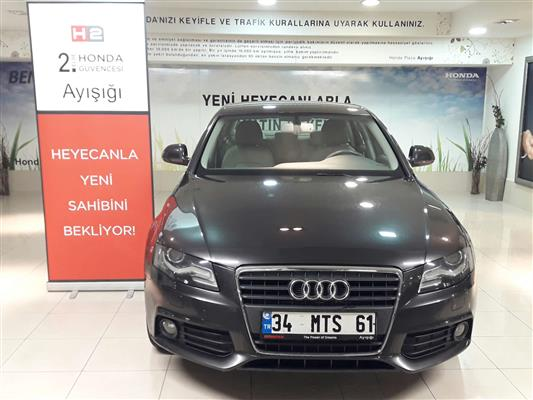audi: (287, 274, 351, 309)
